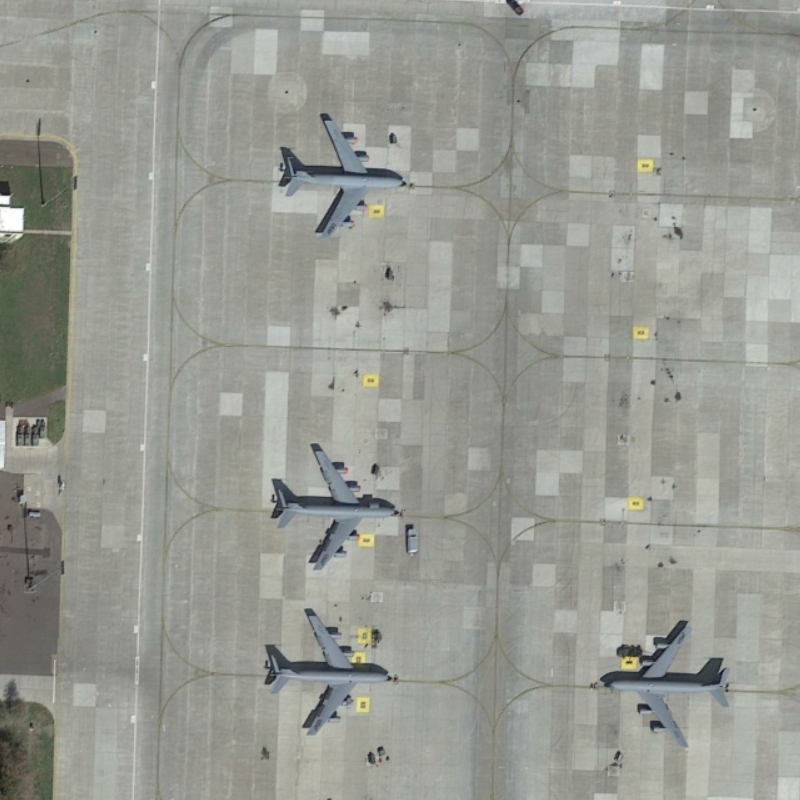A14: (265, 433, 413, 576), (273, 105, 421, 243), (596, 620, 740, 758), (262, 600, 394, 738)
